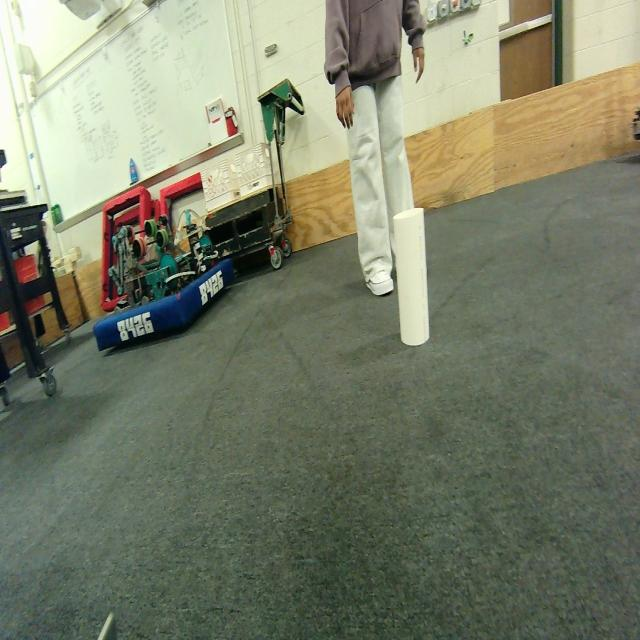coral: (392, 208, 430, 345)
